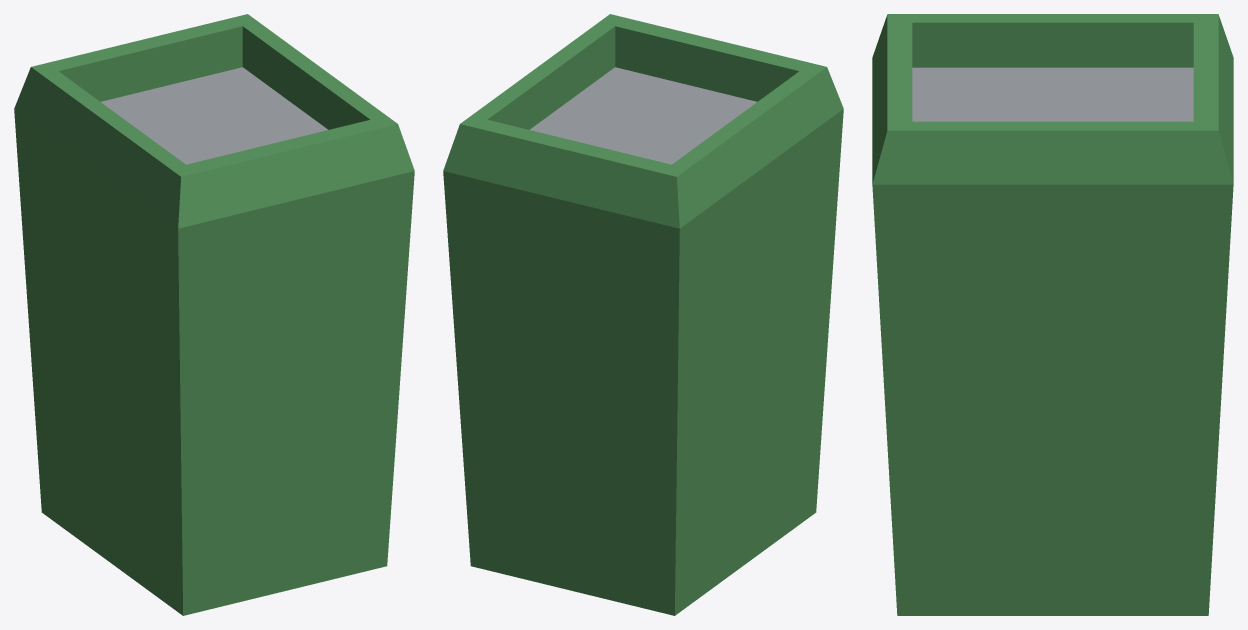
The model's file is DustBin_1.fbx.
The picture shows the model from 3 angles, left to right: view 1: azimuth 30°, elevation 25°; view 2: azimuth 150°, elevation 25°; view 3: azimuth 270°, elevation 25°; orthographic projection. The views are drawn at different scales.
Parts seen in each view (by area): view 1: pCube489; view 2: pCube489; view 3: pCube489.
Boxes of the visible parts, x1,y1,x2,y2 form: pCube489: (14,14,414,615); pCube489: (443,14,843,615); pCube489: (872,14,1233,615).
Bounding box in the file's own units: 0.4911 × 0.88 × 0.5893.
Materials: 1 (1 with a texture image).
